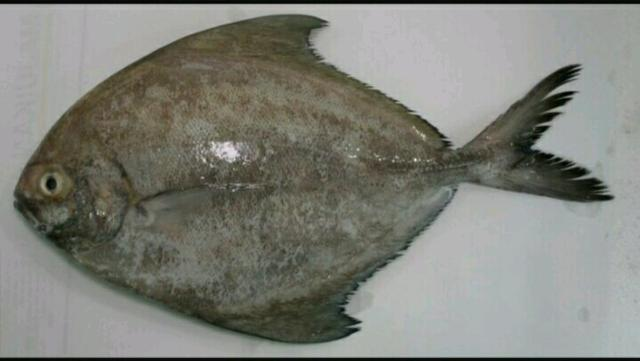Mulut: (2, 166, 46, 240)
Sirip Anal: (320, 184, 458, 280)
Sirip Dada: (119, 164, 299, 240)
Sirip Ekor: (456, 54, 624, 214)
Sirip Perut: (196, 279, 380, 359)
Sirip Punggung: (182, 8, 456, 148)
